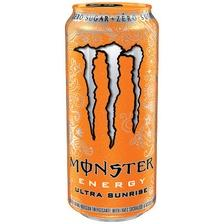Metal: (65, 2, 159, 223)
